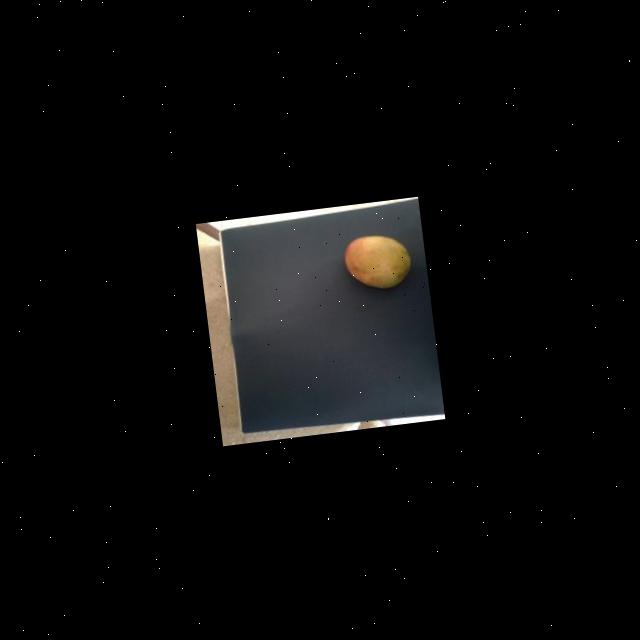Mango: (341, 230, 414, 292)
